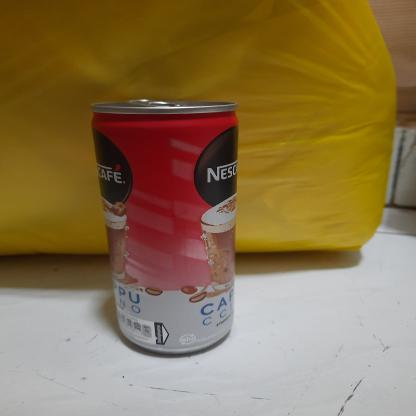mouse: (88, 90, 246, 358)
